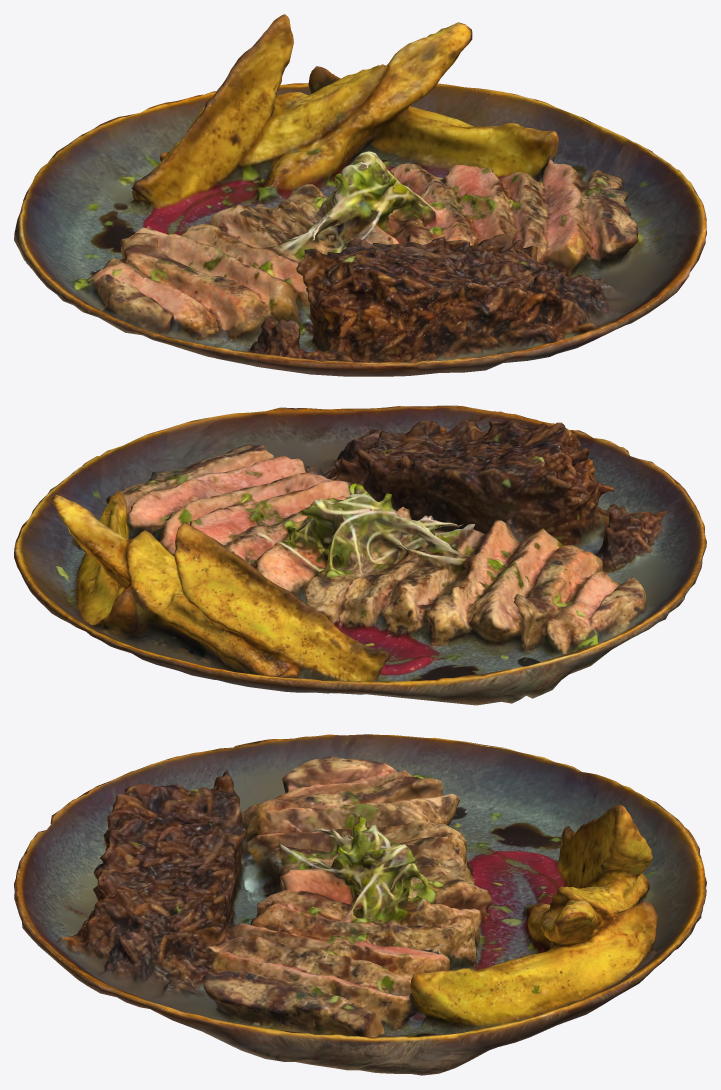
File: entrecote.ar.glb
The picture shows the model from 3 angles, top to bottom: view 1: azimuth 30°, elevation 25°; view 2: azimuth 150°, elevation 25°; view 3: azimuth 270°, elevation 25°; orthographic projection.
Visible parts, largest first — view 1: /ObjectCapture/Geometry/Mesh; view 2: /ObjectCapture/Geometry/Mesh; view 3: /ObjectCapture/Geometry/Mesh.
Part boxes in pixels (x1,y1,x2,y2): /ObjectCapture/Geometry/Mesh: (14, 14, 706, 376); /ObjectCapture/Geometry/Mesh: (14, 405, 706, 705); /ObjectCapture/Geometry/Mesh: (14, 734, 706, 1075).
Size of the model in its own units: 0.2778 by 0.0662 by 0.2724.
Materials: 1 (1 with a texture image).
